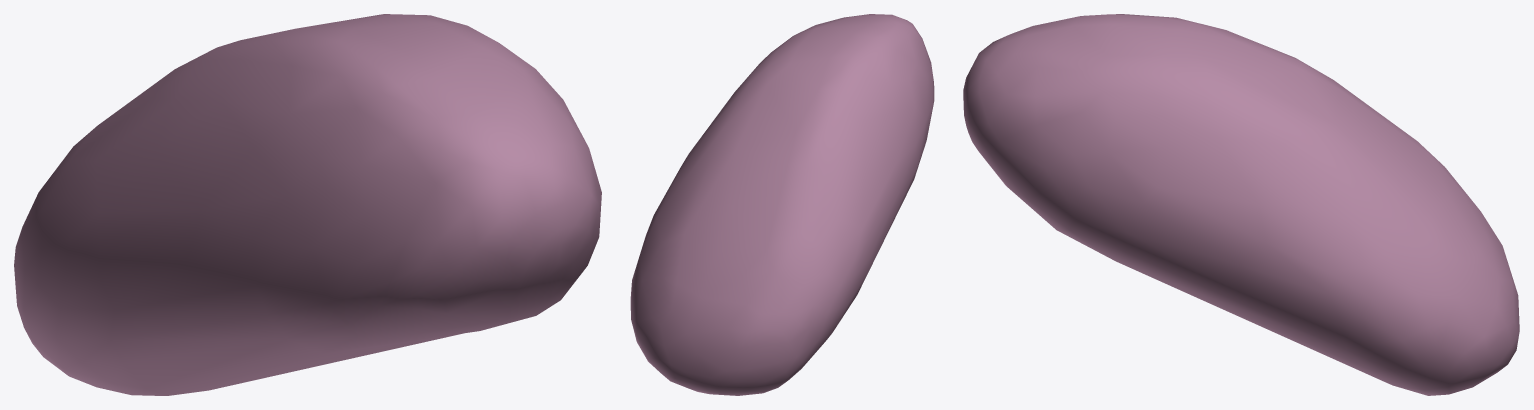
The model's file is pineal-gland.glb.
The picture shows the model from 3 angles, left to right: view 1: azimuth 30°, elevation 25°; view 2: azimuth 150°, elevation 25°; view 3: azimuth 270°, elevation 25°; orthographic projection. The views are drawn at different scales.
Parts seen in each view (by area): view 1: FJ1795 Pineal body; view 2: FJ1795 Pineal body; view 3: FJ1795 Pineal body.
Boxes of the visible parts, bbox=[...] form: FJ1795 Pineal body: bbox=[14, 14, 601, 395]; FJ1795 Pineal body: bbox=[630, 14, 934, 395]; FJ1795 Pineal body: bbox=[963, 14, 1519, 395].
Bounding box in the file's own units: 0.00627 × 0.00771 × 0.0114.
